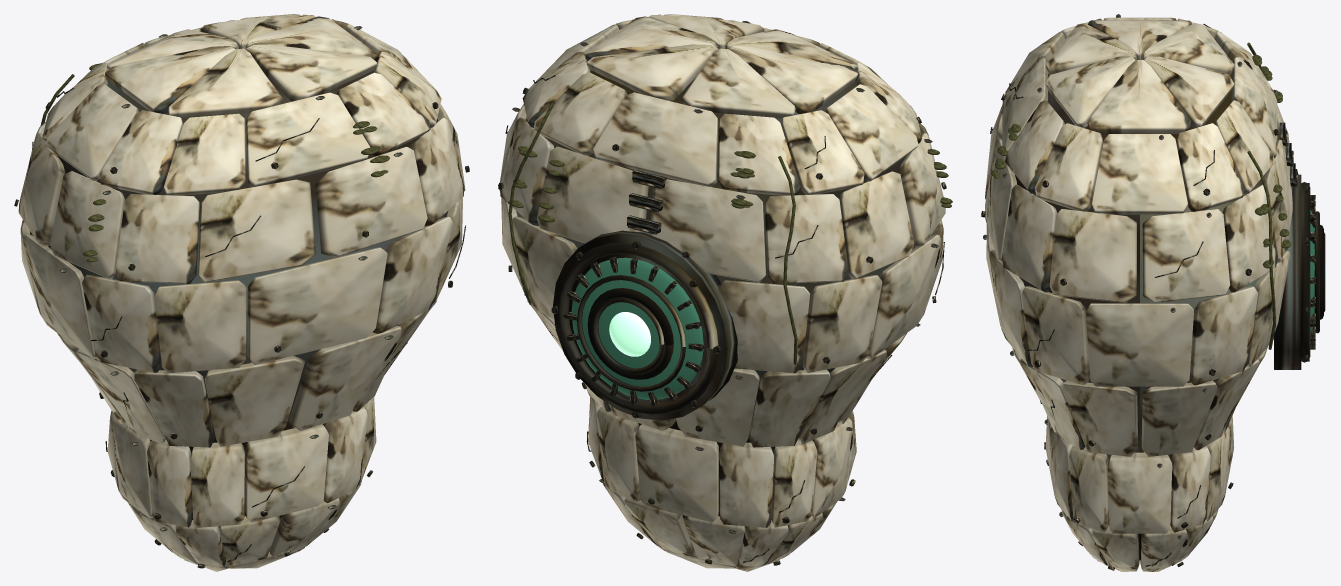
The model's file is body-reactor-v3.glb.
The picture shows the model from 3 angles, left to right: view 1: azimuth 30°, elevation 25°; view 2: azimuth 150°, elevation 25°; view 3: azimuth 270°, elevation 25°; orthographic projection. The views are drawn at different scales.
Parts seen in each view (by area): view 1: reactor-ceramic, reactor-steel, reactor-moss, reactor-brass; view 2: reactor-ceramic, reactor-steel, reactor-brass, reactor-glass, reactor-moss, reactor-light; view 3: reactor-ceramic, reactor-steel, reactor-brass, reactor-moss.
Part boxes in pixels (x1,y1,x2,y2): reactor-ceramic: (18,14,465,571); reactor-steel: (32,19,465,561); reactor-moss: (40,63,389,262); reactor-brass: (14,102,469,568); reactor-ceramic: (499,14,945,571); reactor-steel: (505,21,944,562); reactor-brass: (498,87,946,565); reactor-glass: (571,257,703,399); reactor-moss: (508,101,952,364); reactor-light: (609,312,650,356); reactor-ceramic: (985,17,1292,571); reactor-steel: (983,14,1323,566); reactor-brass: (981,94,1325,570); reactor-moss: (991,42,1290,349).
Size of the model in its own units: 1.39 by 1.72 by 1.07.
Materials: 6 (4 with a texture image).
